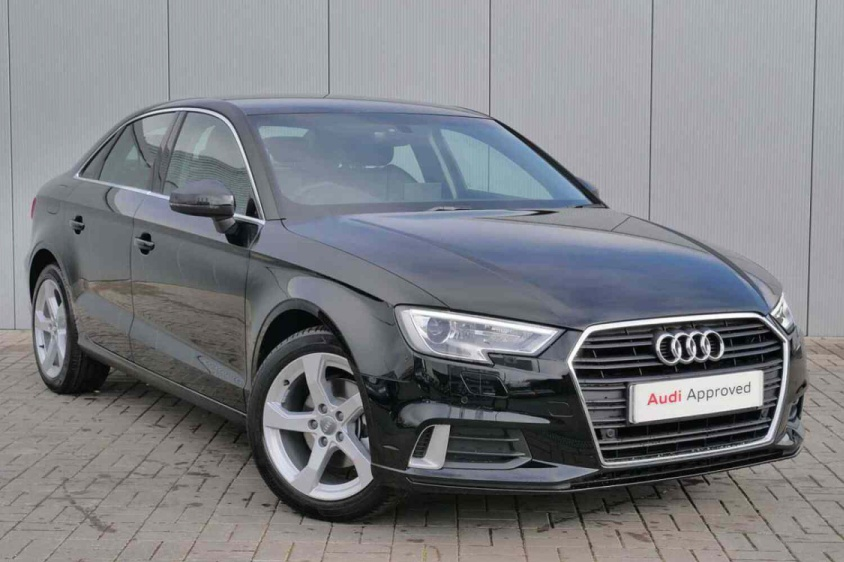audi: (647, 327, 733, 370)
